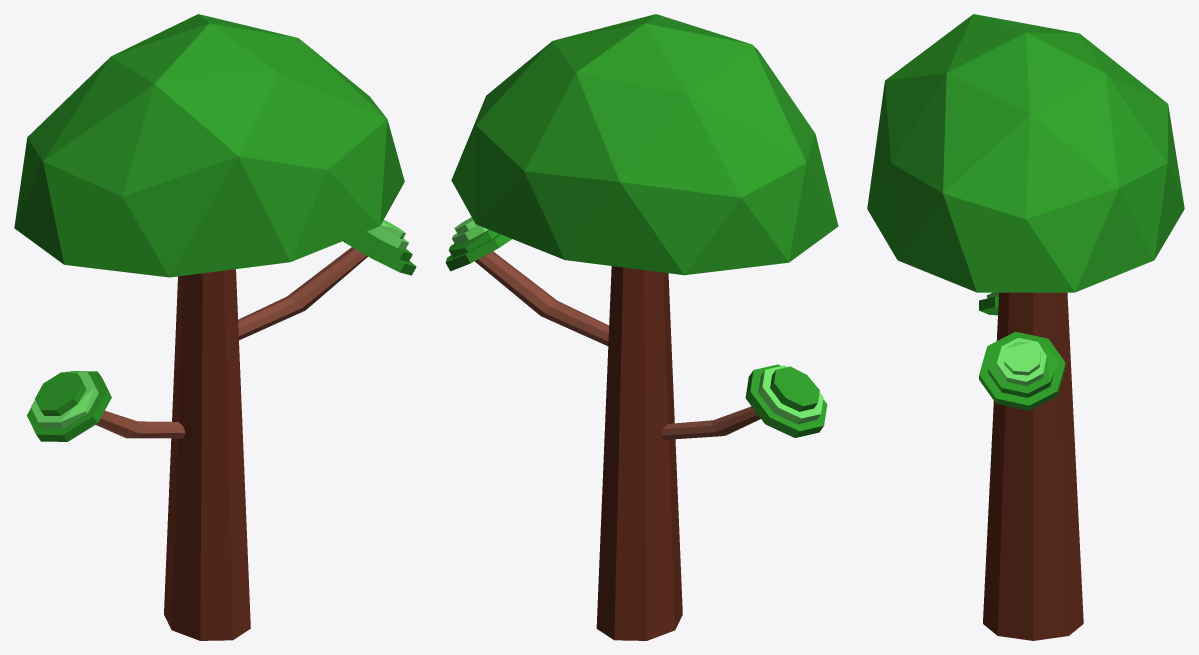
The model's file is Trees.fbx.
3 views of the same model, side by side, from view 1: azimuth 30°, elevation 25°; view 2: azimuth 150°, elevation 25°; view 3: azimuth 270°, elevation 25° (orthographic).
Parts seen in each view (by area): view 1: Icosphere.039, Cylinder.017, Cylinder.019, Cube.050, Cube.052, Cylinder.018, Cube.051, Cube.053, Cube.054; view 2: Icosphere.039, Cylinder.017, Cylinder.019, Cube.050, Cylinder.018, Cube.052, Cube.051, Cube.053; view 3: Icosphere.039, Cylinder.017, Cube.053, Cube.054, Cube.056, Cube.055.
Boxes of the visible parts, left/top/right/bottom form: Icosphere.039: left=14, top=14, right=404, bottom=277; Cylinder.017: left=164, top=269, right=250, bottom=640; Cylinder.019: left=238, top=247, right=367, bottom=340; Cube.050: left=27, top=371, right=111, bottom=441; Cube.052: left=35, top=372, right=86, bottom=415; Cylinder.018: left=95, top=410, right=185, bottom=438; Cube.051: left=31, top=371, right=98, bottom=428; Cube.053: left=343, top=236, right=416, bottom=275; Cube.054: left=356, top=231, right=412, bottom=262; Icosphere.039: left=451, top=14, right=838, bottom=275; Cylinder.017: left=596, top=266, right=682, bottom=640; Cylinder.019: left=475, top=251, right=608, bottom=345; Cube.050: left=745, top=364, right=827, bottom=437; Cylinder.018: left=661, top=406, right=760, bottom=439; Cube.052: left=770, top=366, right=819, bottom=411; Cube.051: left=758, top=365, right=823, bottom=424; Cube.053: left=445, top=234, right=511, bottom=271; Icosphere.039: left=867, top=14, right=1184, bottom=292; Cylinder.017: left=983, top=292, right=1083, bottom=640; Cube.053: left=979, top=331, right=1065, bottom=410; Cube.054: left=988, top=335, right=1058, bottom=397; Cube.056: left=1004, top=342, right=1040, bottom=375; Cube.055: left=996, top=338, right=1046, bottom=385.
Bounding box in the file's own units: 4586 × 7029 × 3425.
